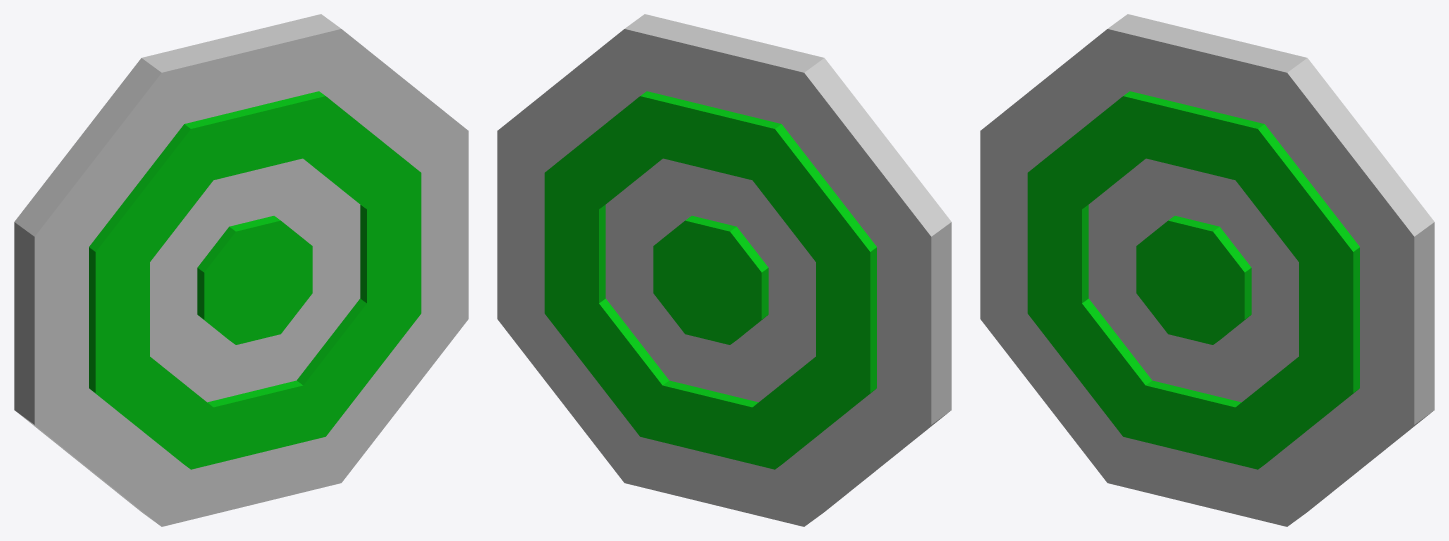
File: Mint-Green_Target.obj
3 views of the same model, side by side, from view 1: azimuth 30°, elevation 25°; view 2: azimuth 150°, elevation 25°; view 3: azimuth 330°, elevation 25° (orthographic).
Parts seen in each view (by area): view 1: Octagon_Base_Octabase, Octagon_Big_Octabig, Octagon_Bullseye_Octabullseye; view 2: Octagon_Base_Octabase, Octagon_Big_Octabig, Octagon_Bullseye_Octabullseye; view 3: Octagon_Base_Octabase, Octagon_Big_Octabig, Octagon_Bullseye_Octabullseye.
Boxes of the visible parts, box(x1,y1,x2,y2) form: Octagon_Base_Octabase: box(14, 14, 468, 526); Octagon_Big_Octabig: box(89, 91, 421, 469); Octagon_Bullseye_Octabullseye: box(197, 216, 312, 344); Octagon_Base_Octabase: box(497, 14, 951, 526); Octagon_Big_Octabig: box(544, 91, 876, 469); Octagon_Bullseye_Octabullseye: box(653, 216, 768, 344); Octagon_Base_Octabase: box(980, 14, 1434, 526); Octagon_Big_Octabig: box(1027, 91, 1359, 469); Octagon_Bullseye_Octabullseye: box(1136, 216, 1251, 344).
Bounding box in the file's own units: 3.7 × 3.7 × 0.5.
